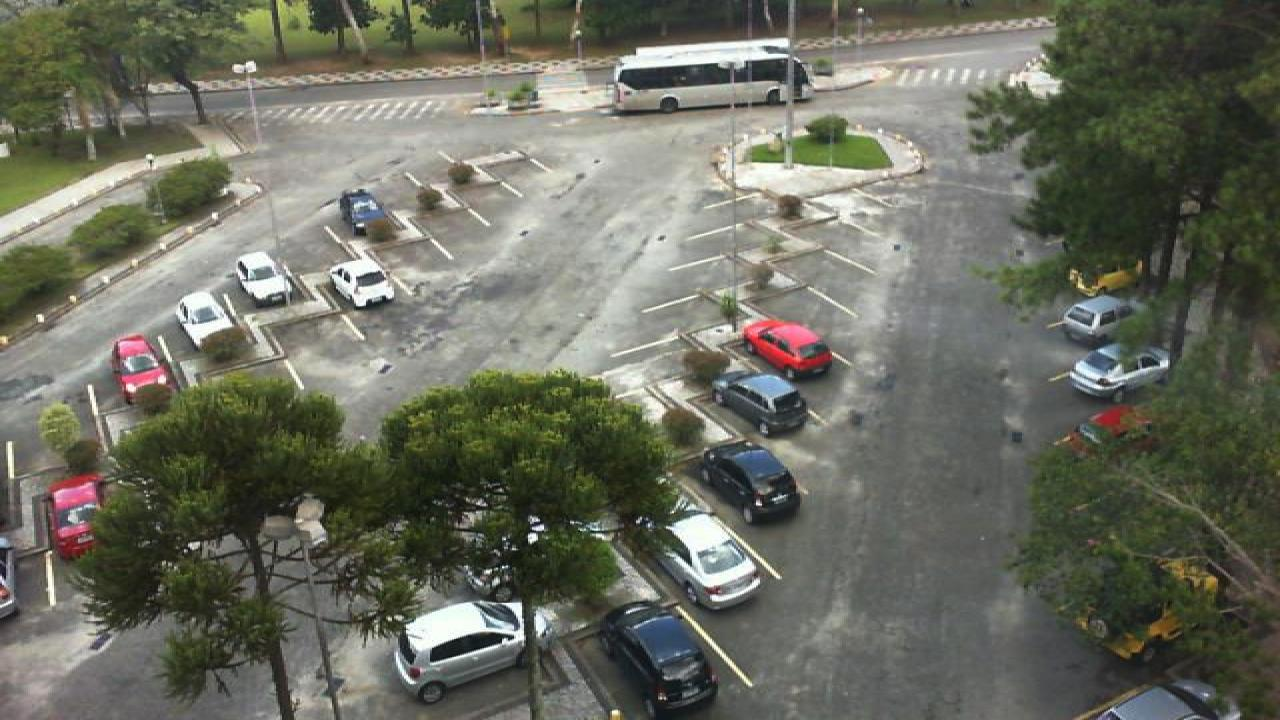Car: (390, 600, 528, 704), (602, 599, 720, 720), (642, 511, 764, 611), (700, 444, 804, 526), (710, 370, 810, 437), (1088, 679, 1240, 720), (738, 317, 836, 378), (1068, 343, 1176, 398), (48, 474, 104, 562), (110, 334, 178, 402), (1060, 294, 1144, 346), (172, 288, 242, 349), (328, 256, 398, 310), (1076, 404, 1156, 449), (234, 251, 292, 304), (338, 188, 386, 236), (0, 536, 20, 618)
